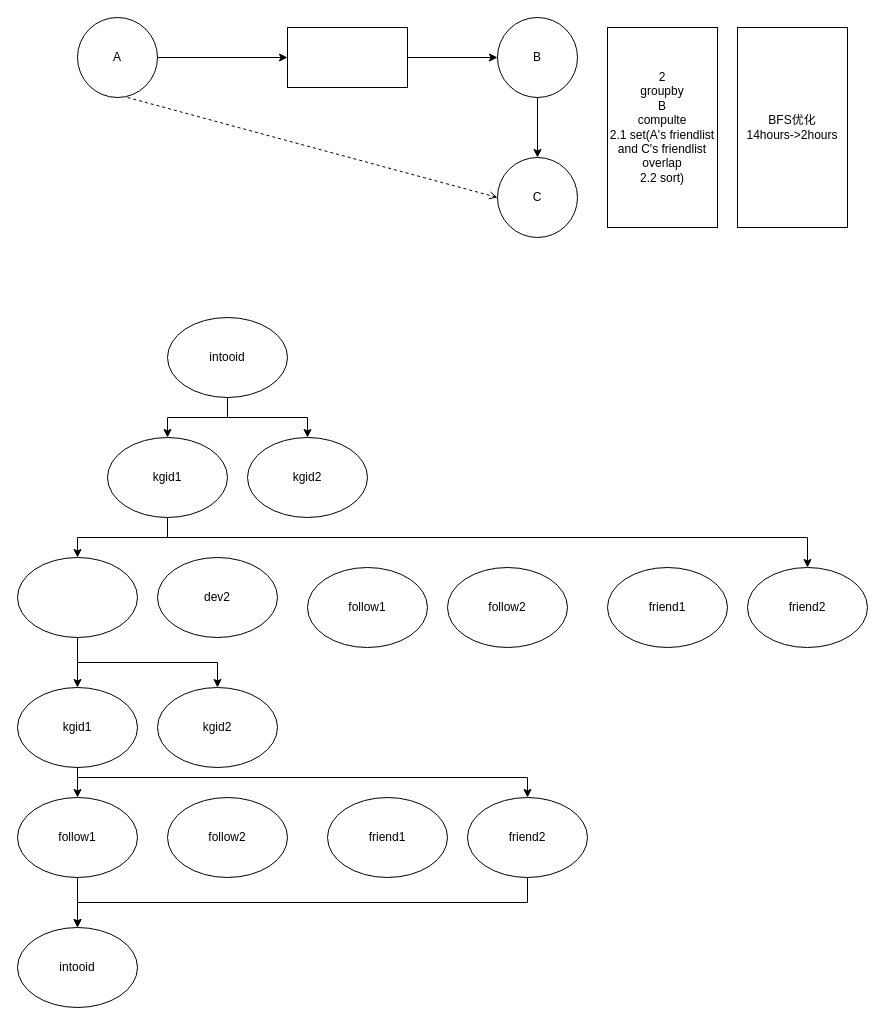
Image size: 885x1025. Some labels were removed from this diagram. Here are the shapes that lost their labels. From the top down, the box of each, then its label:
(286, 26, 408, 88): 1 dropout (近7天登录次数，发布次数采样)->200
(16, 556, 138, 638): dev1
